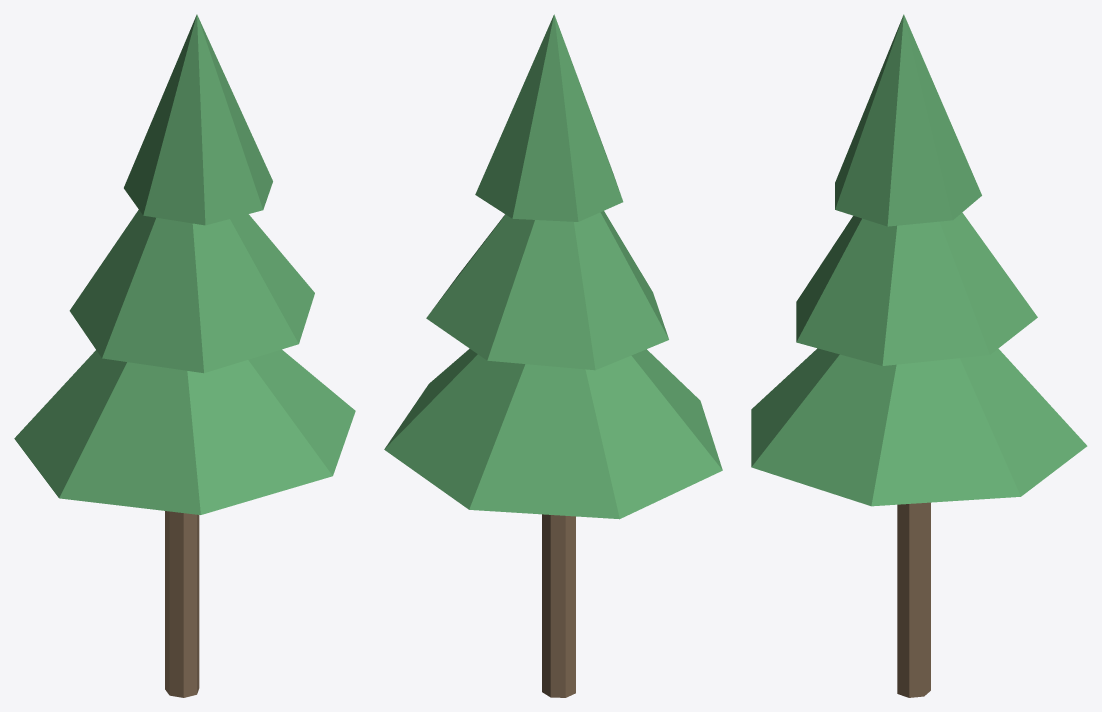
File: pine.glb
3 renders of one model, left to right at view 1: azimuth 30°, elevation 25°; view 2: azimuth 150°, elevation 25°; view 3: azimuth 270°, elevation 25°, orthographic.
Parts seen in each view (by area): view 1: Leaf0, Leaf1, Leaf2, Trunk; view 2: Leaf0, Leaf1, Leaf2, Trunk; view 3: Leaf0, Leaf1, Leaf2, Trunk.
Part boxes in pixels (x1,y1,x2,y2): Leaf0: [14, 349, 355, 514]; Leaf1: [69, 209, 314, 373]; Leaf2: [124, 14, 272, 225]; Trunk: [165, 511, 199, 697]; Leaf0: [384, 348, 722, 519]; Leaf1: [426, 211, 668, 370]; Leaf2: [475, 14, 623, 221]; Trunk: [542, 514, 575, 697]; Leaf0: [751, 348, 1087, 506]; Leaf1: [796, 212, 1037, 365]; Leaf2: [835, 14, 981, 226]; Trunk: [897, 502, 930, 697].
Bounding box in the file's own units: 3.12 × 6.8 × 3.04.
